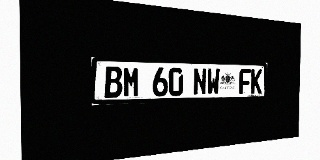0: (168, 67, 183, 96)
6: (153, 67, 168, 97)
B: (104, 66, 122, 98)
F: (239, 69, 251, 94)
K: (251, 69, 262, 94)
M: (123, 67, 140, 97)
N: (193, 68, 207, 95)
W: (207, 68, 220, 95)
